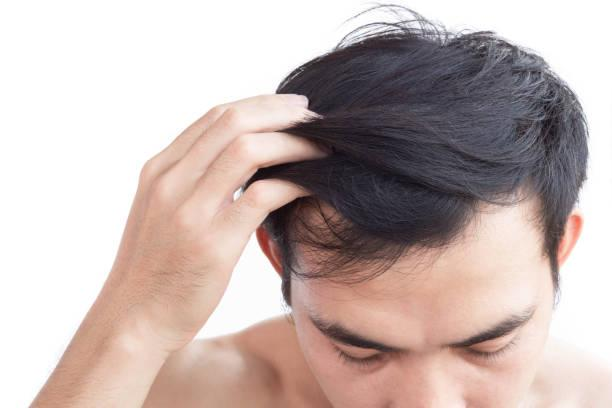dry hair: (395, 116, 502, 204), (309, 158, 388, 208), (503, 118, 532, 162)
